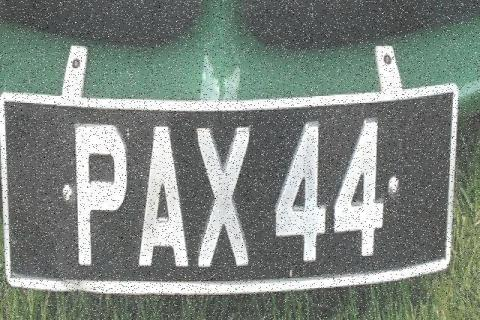LicensePlate: (0, 71, 463, 311)
